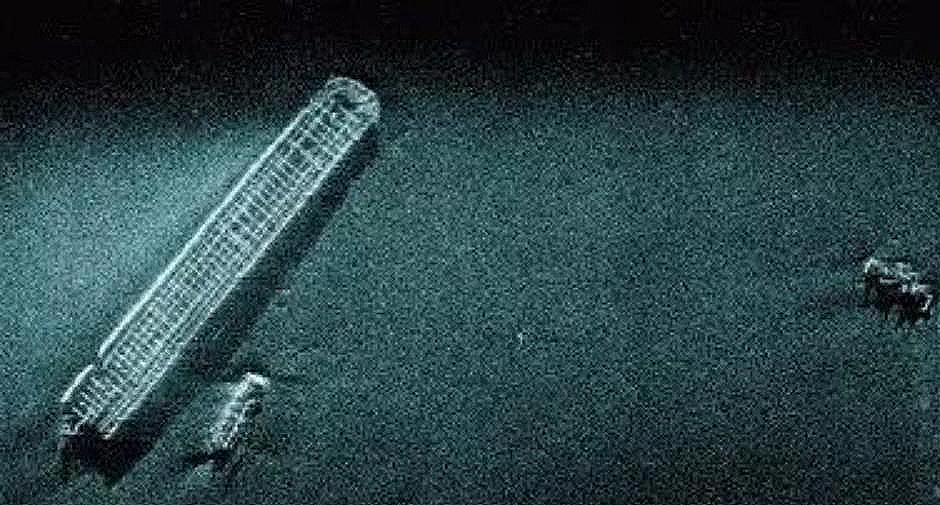ship: (53, 73, 383, 464)
